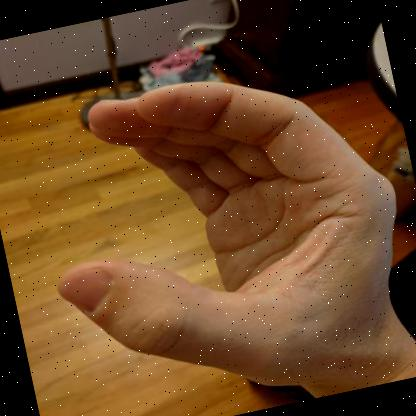C: (57, 81, 416, 389)
